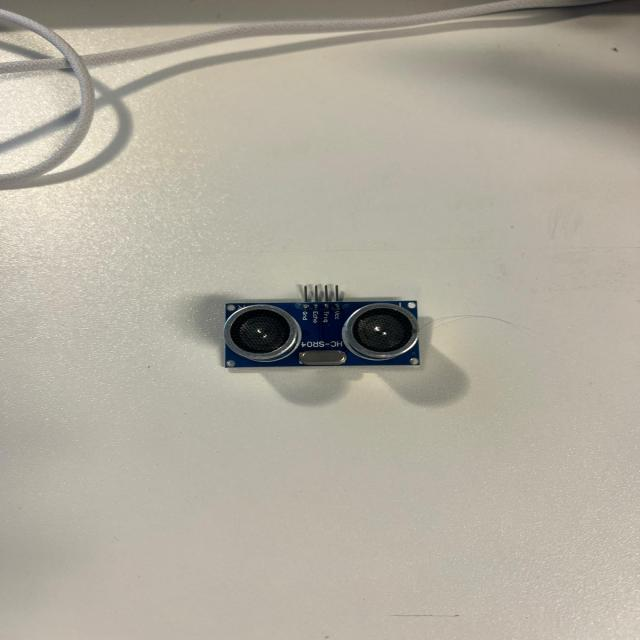UltrasoneSensor: (182, 247, 454, 400)
